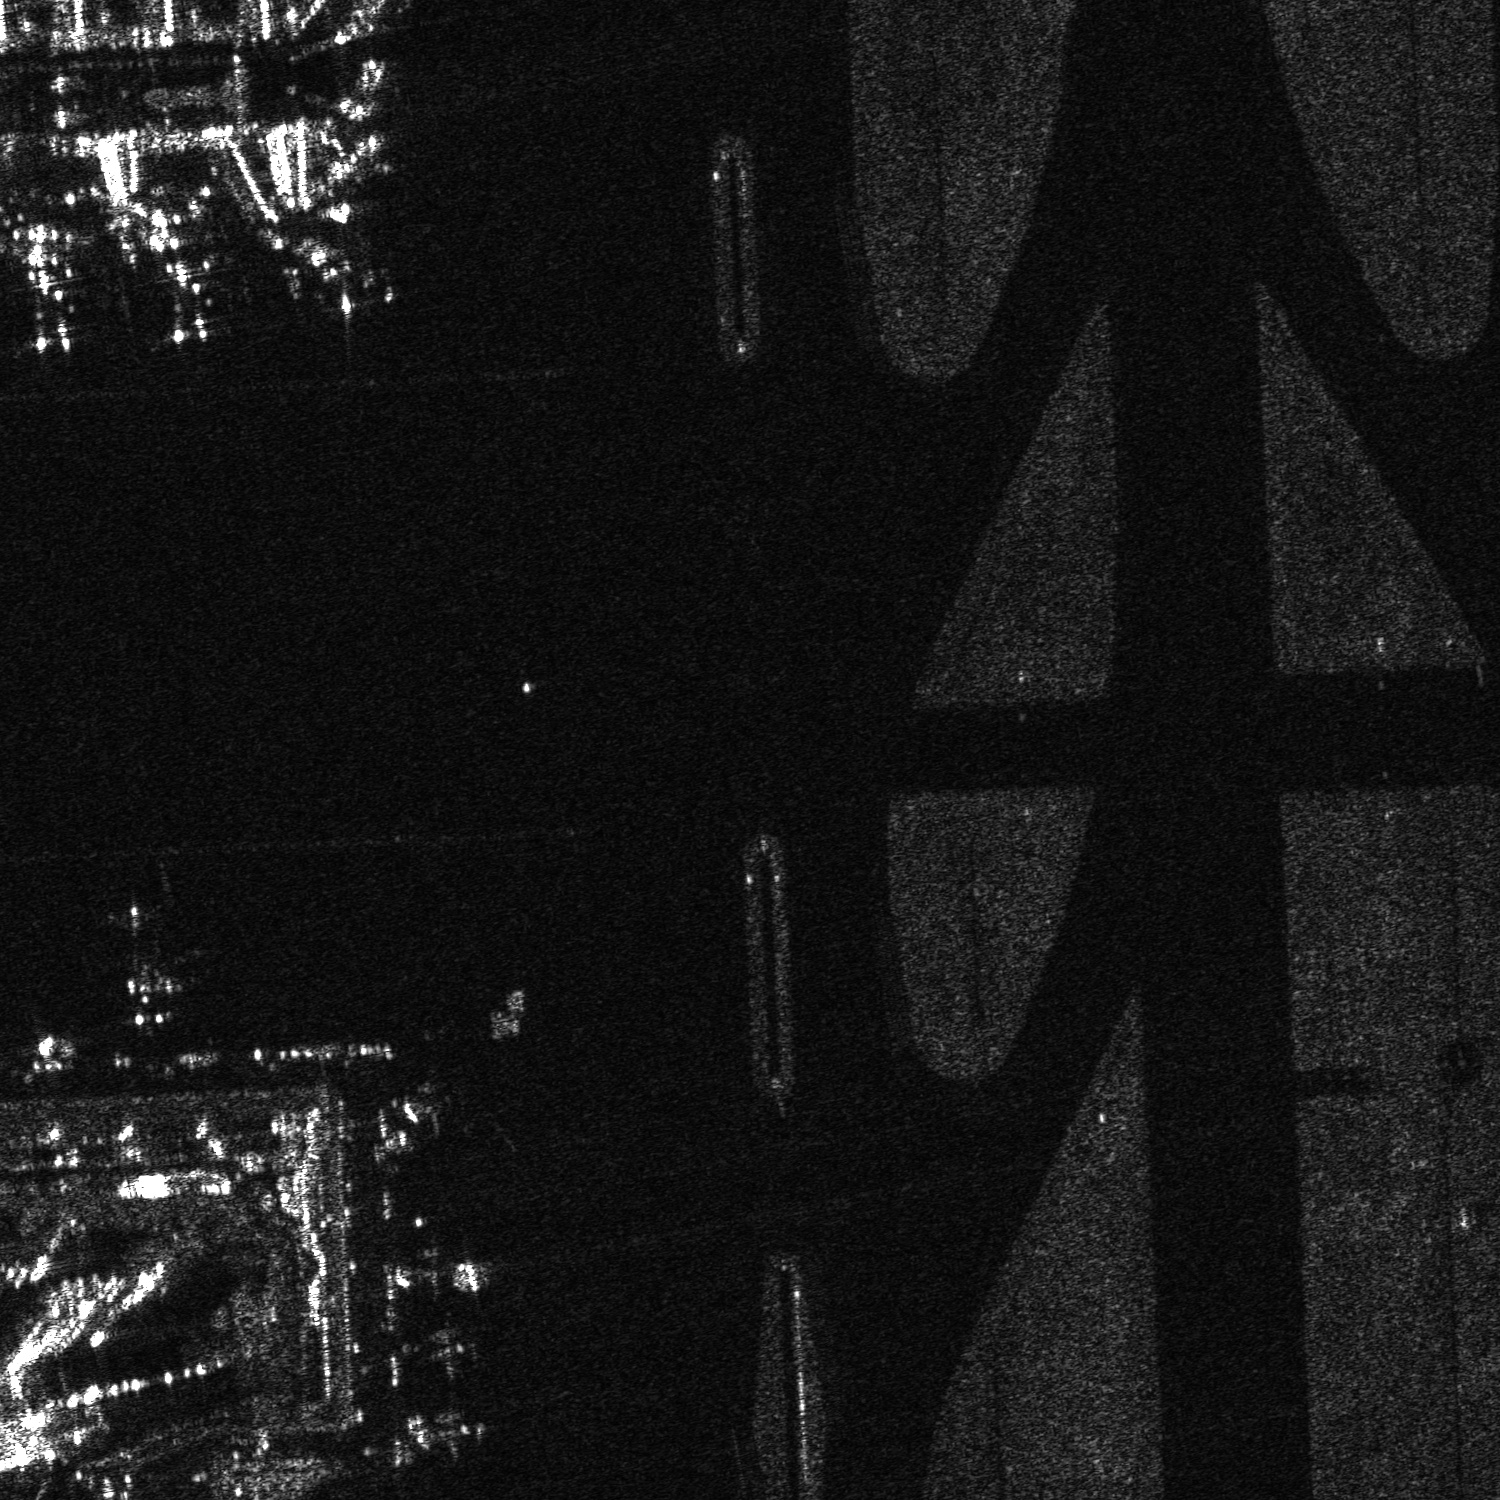A220: (391, 1228, 497, 1298), (397, 1400, 497, 1467), (396, 1323, 495, 1387)
Boeing737: (273, 229, 387, 330)
Boeing787: (110, 902, 191, 1036)
other: (139, 227, 239, 345)
